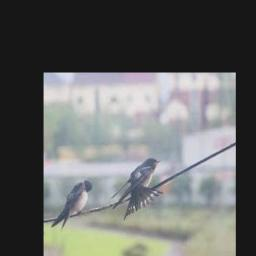Swallow: (111, 157, 163, 221), (51, 180, 92, 232)
